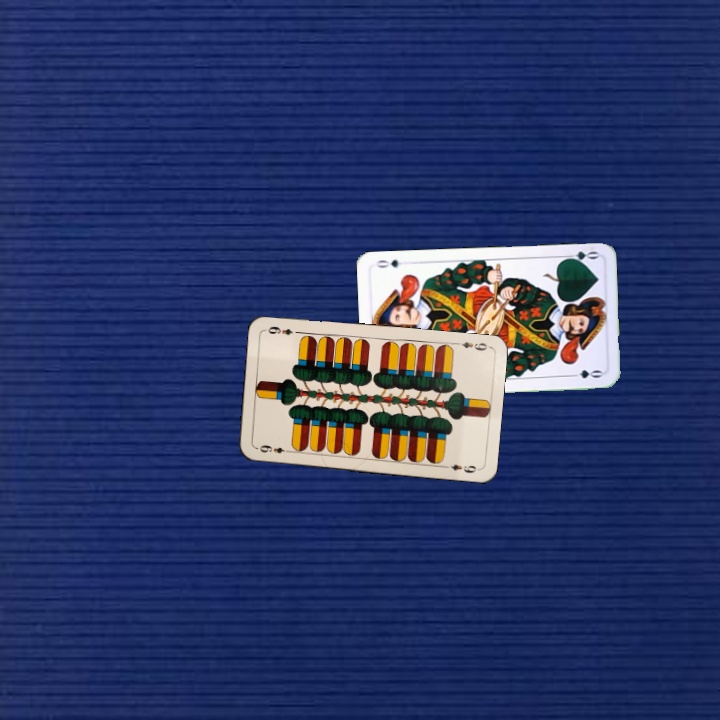E9: (451, 338, 492, 353), (256, 441, 293, 456)
GO: (559, 247, 600, 266)
